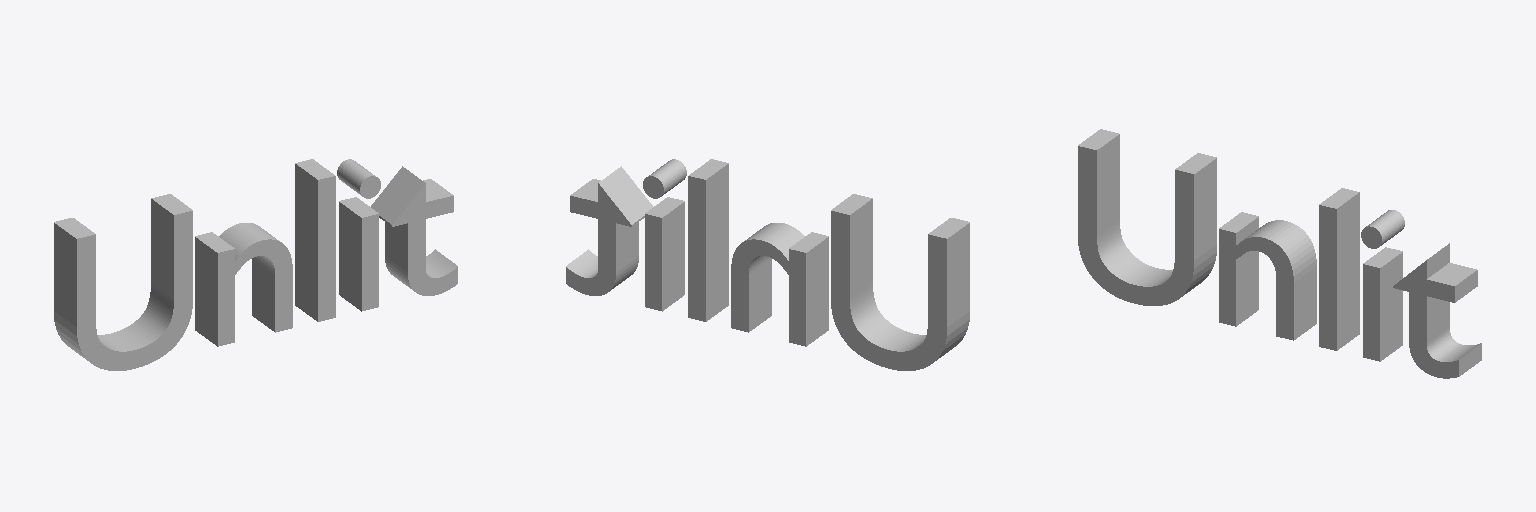
File: unlit.obj
The picture shows the model from 3 angles: view 1: azimuth 30°, elevation 25°; view 2: azimuth 150°, elevation 25°; view 3: azimuth 330°, elevation 25°; orthographic projection.
Visible parts, largest first — view 1: Text_Text_Material; view 2: Text_Text_Material; view 3: Text_Text_Material.
Part boxes in pixels (x1,y1,x2,y2): Text_Text_Material: (54,159,457,370); Text_Text_Material: (566,159,969,370); Text_Text_Material: (1078,129,1481,378).
Bounding box in the file's own units: 1.92 × 0.691 × 0.2.